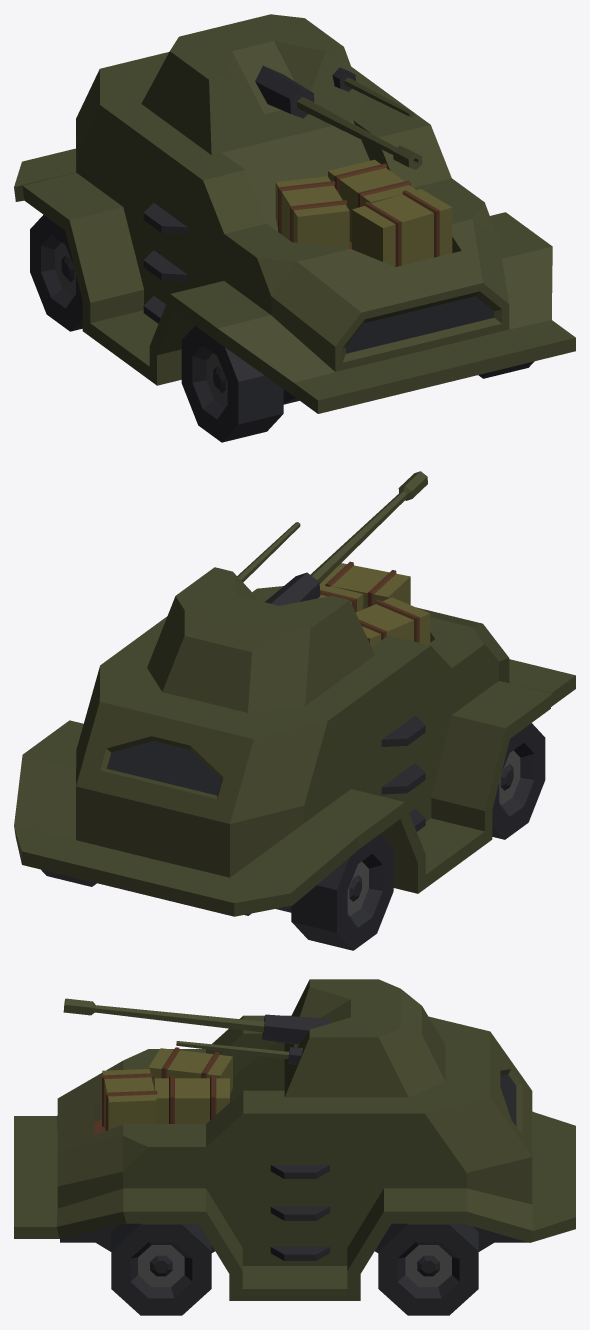
File: LPWarPack_ArmedVehicle.fbx
The picture shows the model from 3 angles, top to bottom: view 1: azimuth 30°, elevation 25°; view 2: azimuth 150°, elevation 25°; view 3: azimuth 270°, elevation 25°; orthographic projection. The views are drawn at different scales.
Parts seen in each view (by area): view 1: ArmedVehicle; view 2: ArmedVehicle; view 3: ArmedVehicle.
Boxes of the visible parts, x1=… form: ArmedVehicle: x1=14, y1=14, x2=575, y2=442; ArmedVehicle: x1=14, y1=471, x2=575, y2=950; ArmedVehicle: x1=14, y1=979, x2=575, y2=1315.
Size of the model in its own units: 292 by 236 by 480.
